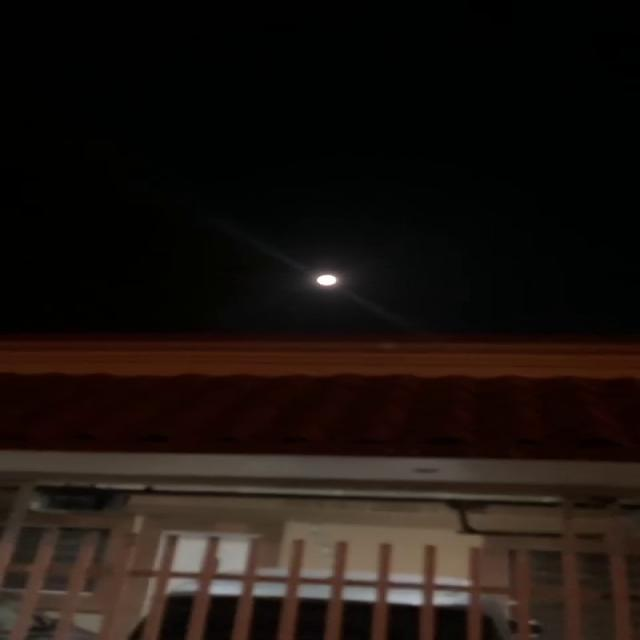moon: (316, 269, 347, 286)
